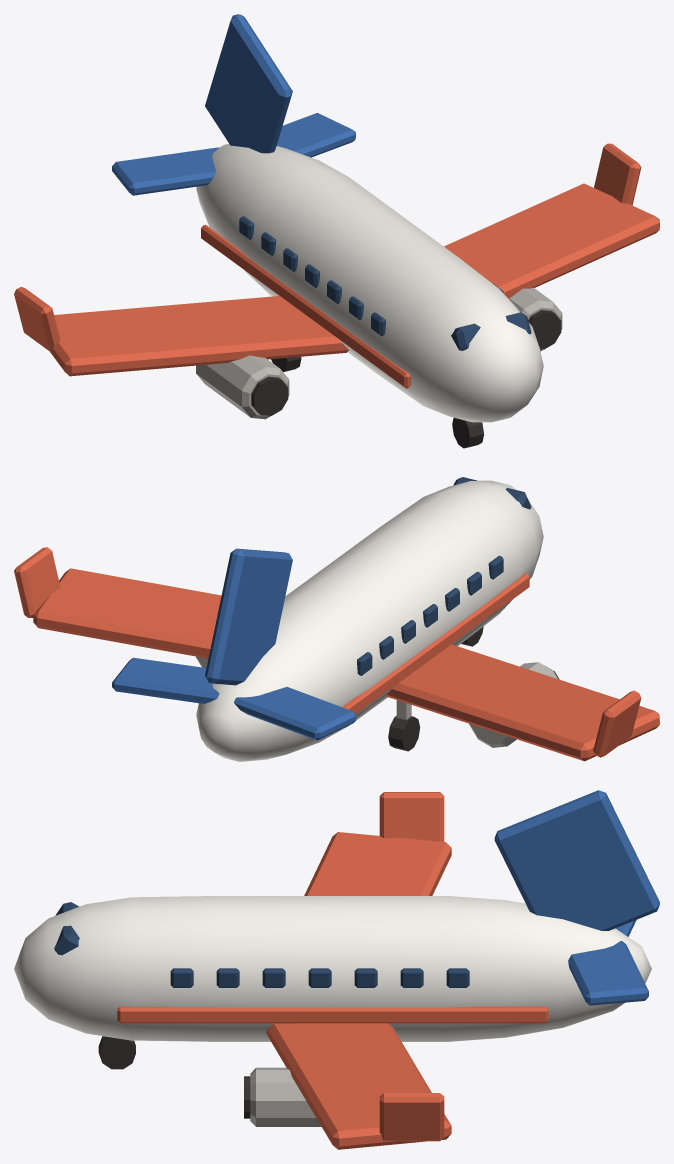
Rendered from aviao.glb.
The picture shows the model from 3 angles, top to bottom: view 1: azimuth 30°, elevation 25°; view 2: azimuth 150°, elevation 25°; view 3: azimuth 270°, elevation 25°; orthographic projection. The views are drawn at different scales.
Parts seen in each view (by area): view 1: aviao; view 2: aviao; view 3: aviao.
Boxes of the visible parts, bbox=[...] form: aviao: bbox=[14, 14, 659, 448]; aviao: bbox=[14, 477, 659, 761]; aviao: bbox=[14, 790, 659, 1149].
Size of the model in its own units: 0.5061 by 0.2107 by 0.4496.
